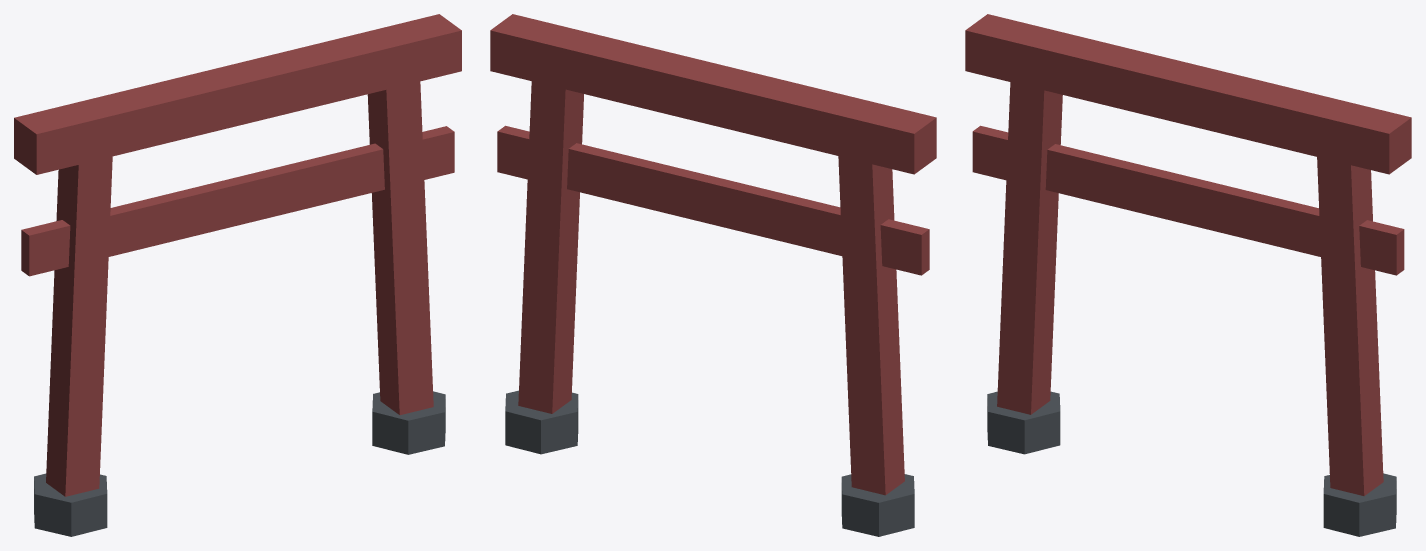
Rendered from toriSingle.fbx.
The picture shows the model from 3 angles, left to right: view 1: azimuth 30°, elevation 25°; view 2: azimuth 150°, elevation 25°; view 3: azimuth 330°, elevation 25°; orthographic projection.
Parts seen in each view (by area): view 1: tori; view 2: tori; view 3: tori.
Boxes of the visible parts, x1,y1,x2,y2 form: tori: (14,14,461,536); tori: (490,14,936,536); tori: (965,14,1411,536).
Bounding box in the file's own units: 80.3 × 73.12 × 12.16.
